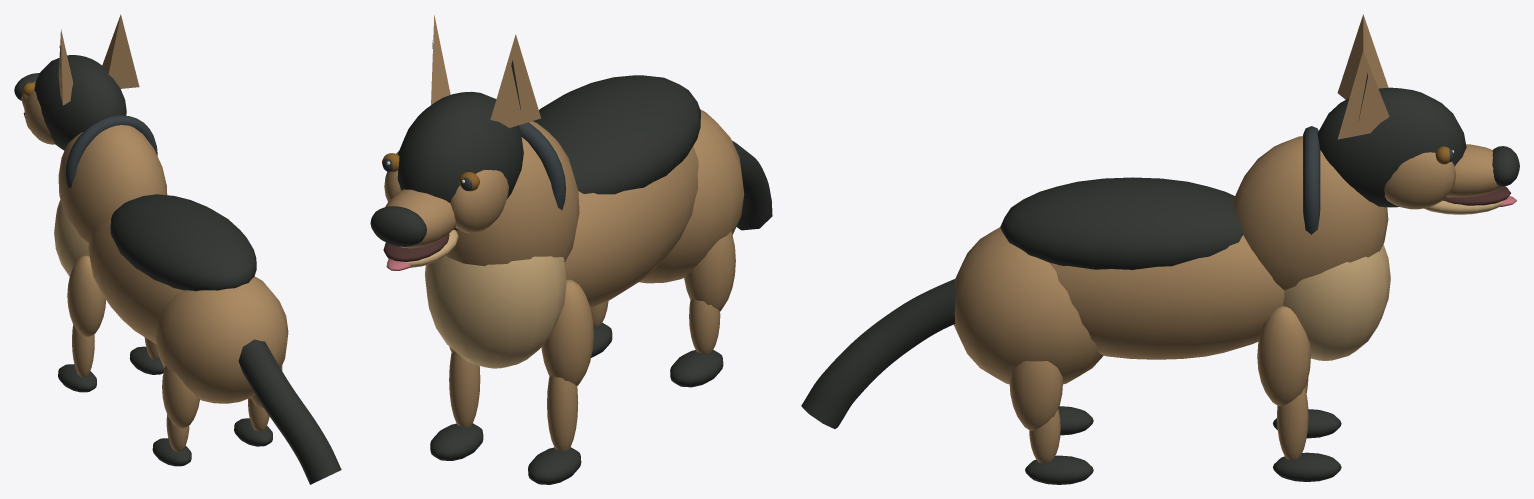
File: shepherd.glb
The picture shows the model from 3 angles, left to right: view 1: azimuth 30°, elevation 25°; view 2: azimuth 150°, elevation 25°; view 3: azimuth 270°, elevation 25°; orthographic projection. The views are drawn at different scales.
Visible parts, largest first — view 1: shepherd / Shepherd tawny fur, shepherd / Shepherd black saddle, dogTail / Shepherd black saddle, dogHead / Shepherd black saddle, dogLeg-0 / Shepherd tawny fur, dogHead / Shepherd tawny fur, dogLeg-2 / Shepherd tawny fur, shepherd / Dark leather, shepherd / Shepherd cheek and chest, dogLeg-0 / Shepherd black saddle, dogLeg-2 / Shepherd black saddle, dogLeg-3 / Shepherd black saddle (+2 smaller); view 2: shepherd / Shepherd tawny fur, shepherd / Shepherd black saddle, shepherd / Shepherd cheek and chest, dogHead / Shepherd black saddle, dogHead / Shepherd tawny fur, dogLeg-0 / Shepherd tawny fur, dogLeg-2 / Shepherd tawny fur, dogTail / Shepherd black saddle, dogLeg-1 / Shepherd tawny fur, dogLeg-1 / Shepherd black saddle, dogLeg-0 / Shepherd black saddle, dogLeg-2 / Shepherd black saddle (+4 smaller); view 3: shepherd / Shepherd tawny fur, shepherd / Shepherd black saddle, dogHead / Shepherd black saddle, dogHead / Shepherd tawny fur, dogTail / Shepherd black saddle, shepherd / Shepherd cheek and chest, dogLeg-1 / Shepherd tawny fur, dogLeg-3 / Shepherd tawny fur, shepherd / Dark leather, dogLeg-1 / Shepherd black saddle, dogLeg-3 / Shepherd black saddle, dogLeg-0 / Shepherd black saddle (+1 smaller).
Part boxes in pixels (x1,y1,x2,y2): shepherd / Shepherd tawny fur: [58, 125, 288, 403]; shepherd / Shepherd black saddle: [110, 194, 256, 291]; dogTail / Shepherd black saddle: [238, 339, 341, 484]; dogHead / Shepherd black saddle: [14, 45, 126, 150]; dogLeg-0 / Shepherd tawny fur: [67, 255, 105, 377]; dogHead / Shepherd tawny fur: [21, 14, 139, 144]; dogLeg-2 / Shepherd tawny fur: [162, 365, 199, 451]; shepherd / Dark leather: [65, 115, 157, 188]; shepherd / Shepherd cheek and chest: [54, 200, 89, 276]; dogLeg-0 / Shepherd black saddle: [58, 364, 96, 392]; dogLeg-2 / Shepherd black saddle: [152, 438, 191, 466]; dogLeg-3 / Shepherd black saddle: [234, 418, 272, 446]; shepherd / Shepherd tawny fur: [446, 109, 744, 308]; shepherd / Shepherd black saddle: [533, 75, 700, 194]; shepherd / Shepherd cheek and chest: [425, 255, 566, 368]; dogHead / Shepherd black saddle: [370, 40, 523, 246]; dogHead / Shepherd tawny fur: [384, 15, 541, 248]; dogLeg-0 / Shepherd tawny fur: [541, 279, 593, 450]; dogLeg-2 / Shepherd tawny fur: [684, 231, 735, 353]; dogTail / Shepherd black saddle: [732, 140, 772, 230]; dogLeg-1 / Shepherd tawny fur: [449, 346, 480, 427]; dogLeg-1 / Shepherd black saddle: [430, 423, 483, 460]; dogLeg-0 / Shepherd black saddle: [528, 447, 581, 484]; dogLeg-2 / Shepherd black saddle: [670, 350, 723, 387]; shepherd / Shepherd tawny fur: [953, 136, 1388, 384]; shepherd / Shepherd black saddle: [1000, 177, 1243, 269]; dogHead / Shepherd black saddle: [1317, 73, 1519, 207]; dogHead / Shepherd tawny fur: [1337, 14, 1502, 209]; dogTail / Shepherd black saddle: [801, 279, 955, 428]; shepherd / Shepherd cheek and chest: [1283, 244, 1390, 360]; dogLeg-1 / Shepherd tawny fur: [1257, 306, 1310, 459]; dogLeg-3 / Shepherd tawny fur: [1009, 361, 1062, 463]; shepherd / Dark leather: [1303, 126, 1320, 234]; dogLeg-1 / Shepherd black saddle: [1273, 452, 1341, 481]; dogLeg-3 / Shepherd black saddle: [1025, 455, 1093, 484]; dogLeg-0 / Shepherd black saddle: [1273, 409, 1341, 438].
Bounding box in the file's own units: 0.48 × 1.36 × 2.09.
